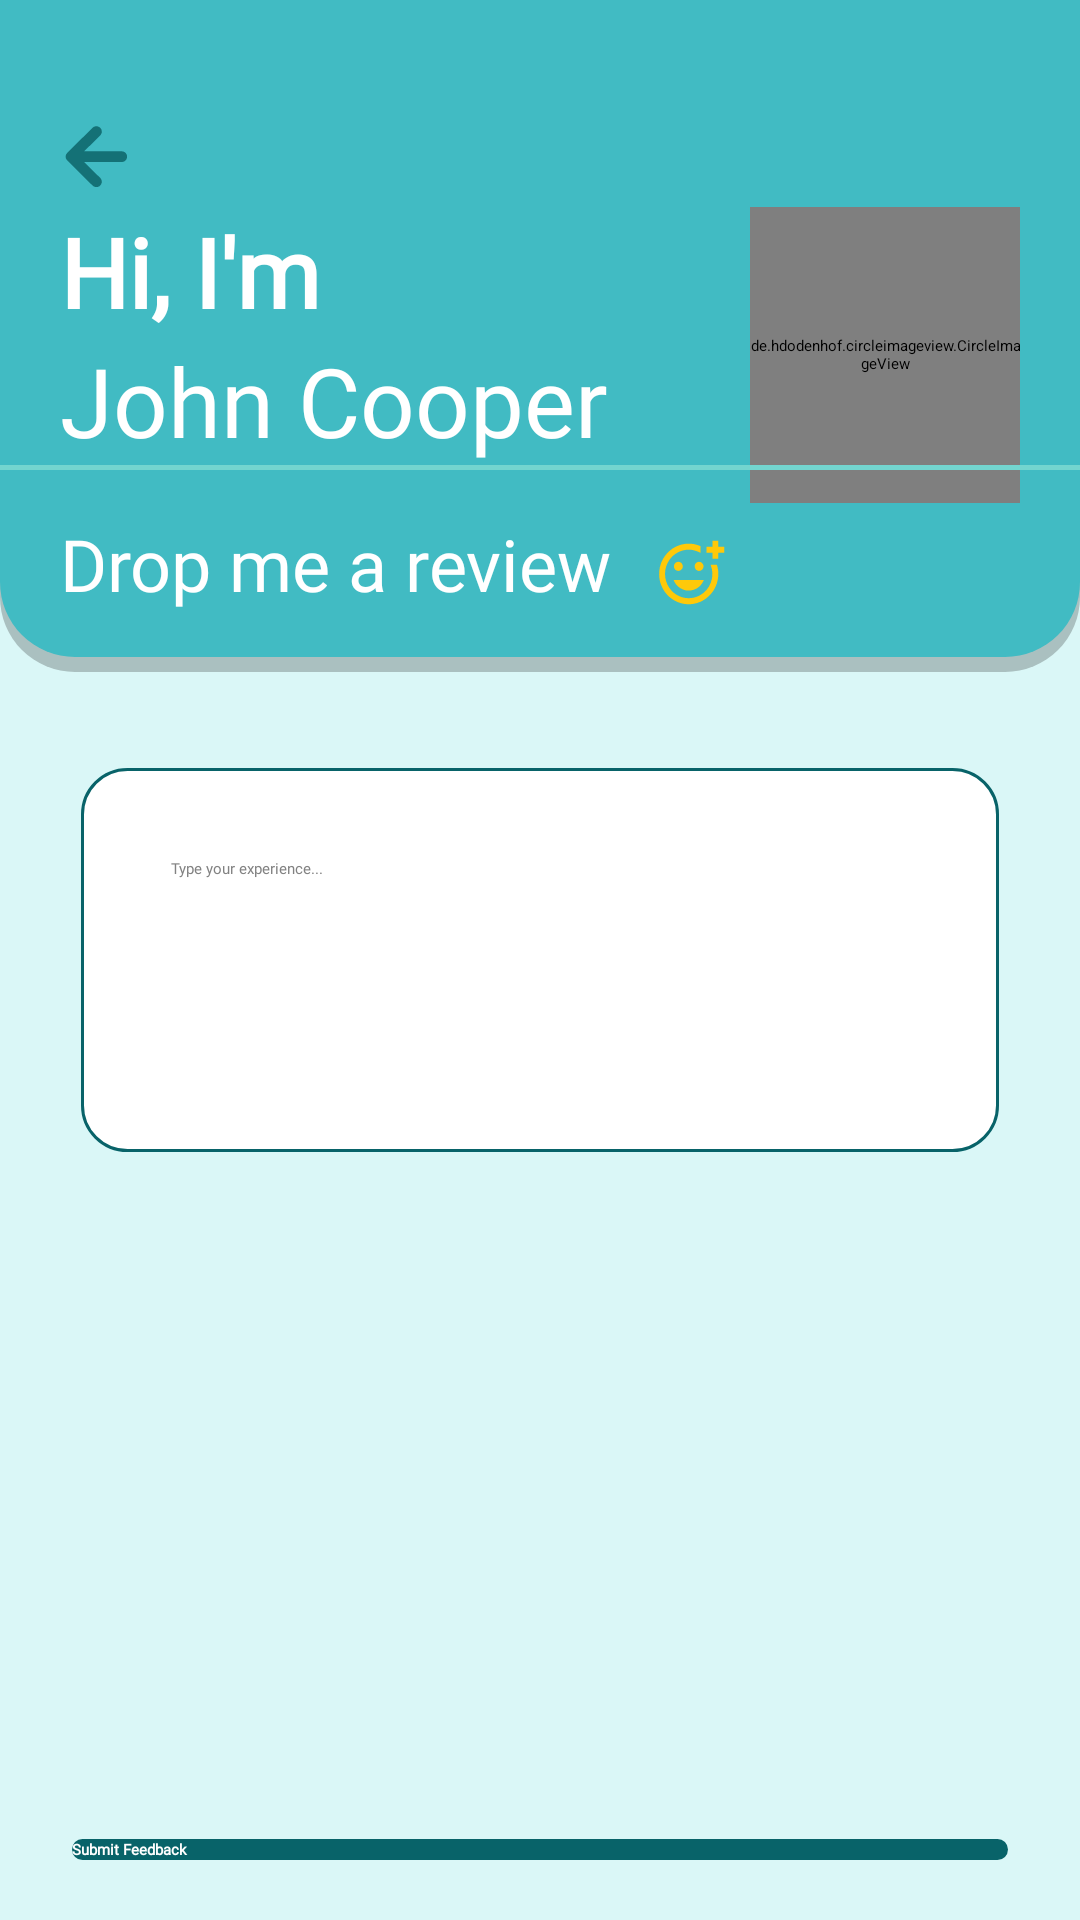

Icons on this 1080*1920 Android screen, each with the point to tap as (x,y):
arrow back: (96,156)
smily: (692,572)
